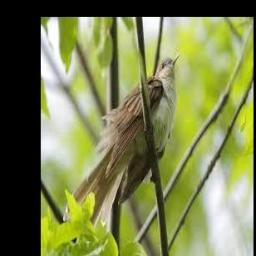Cuckoo: (63, 53, 180, 226)
